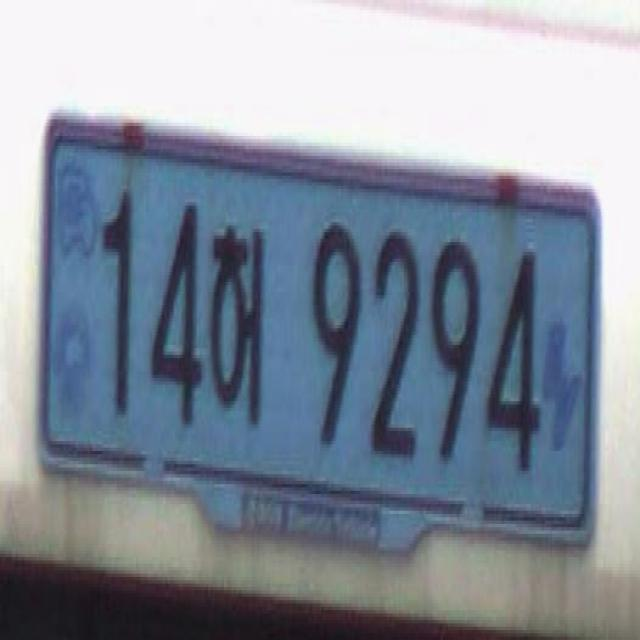EV_plate: (17, 93, 620, 582)
